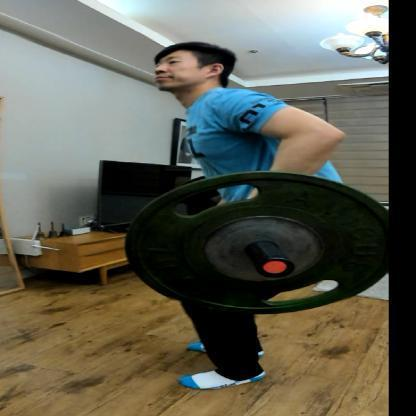barbell: (123, 171, 389, 316)
